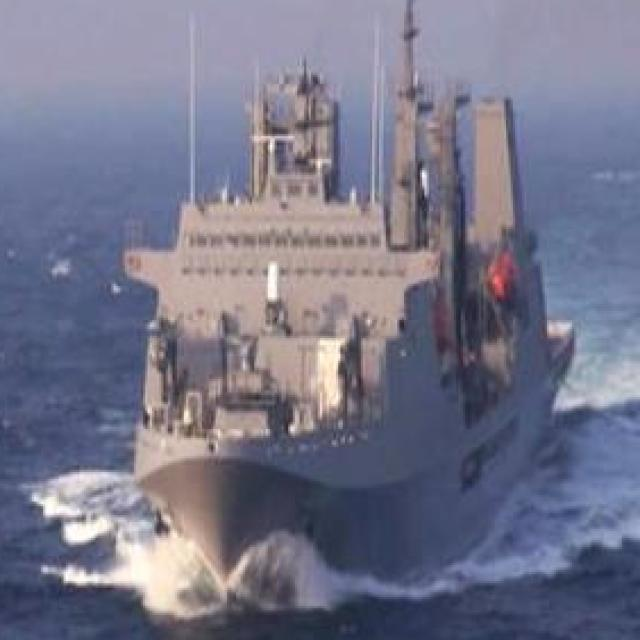navalvessels: (111, 3, 574, 600)
